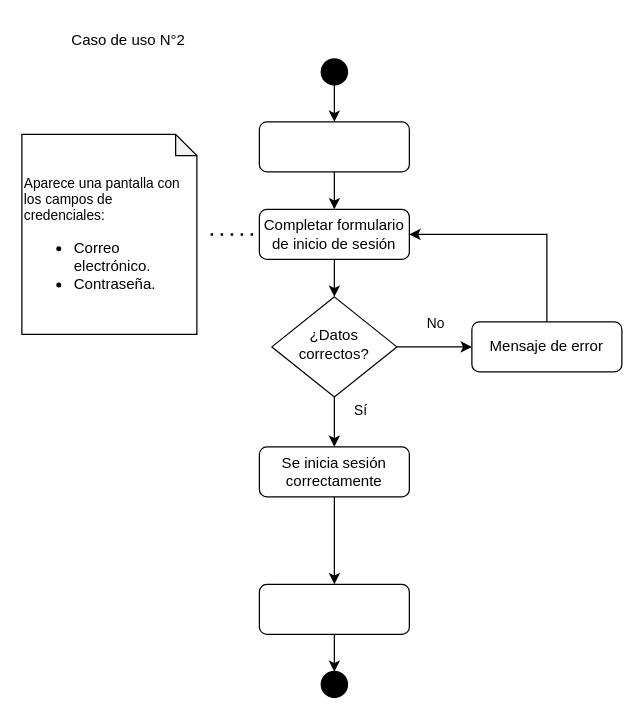
Image size: 644x719. Some labels were removed from this diagram. The shapes that lost their labels are listed below. From the top down, each one's centre as x and y in pixels, then its label:
pixel 333 146: Hacer clic en ""Iniciar sesión"'
pixel 333 608: Se navega a "ReadyuseScreen"
